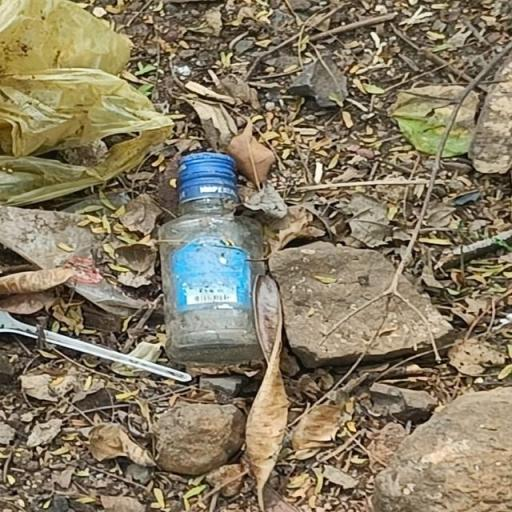glass: (143, 144, 278, 373)
